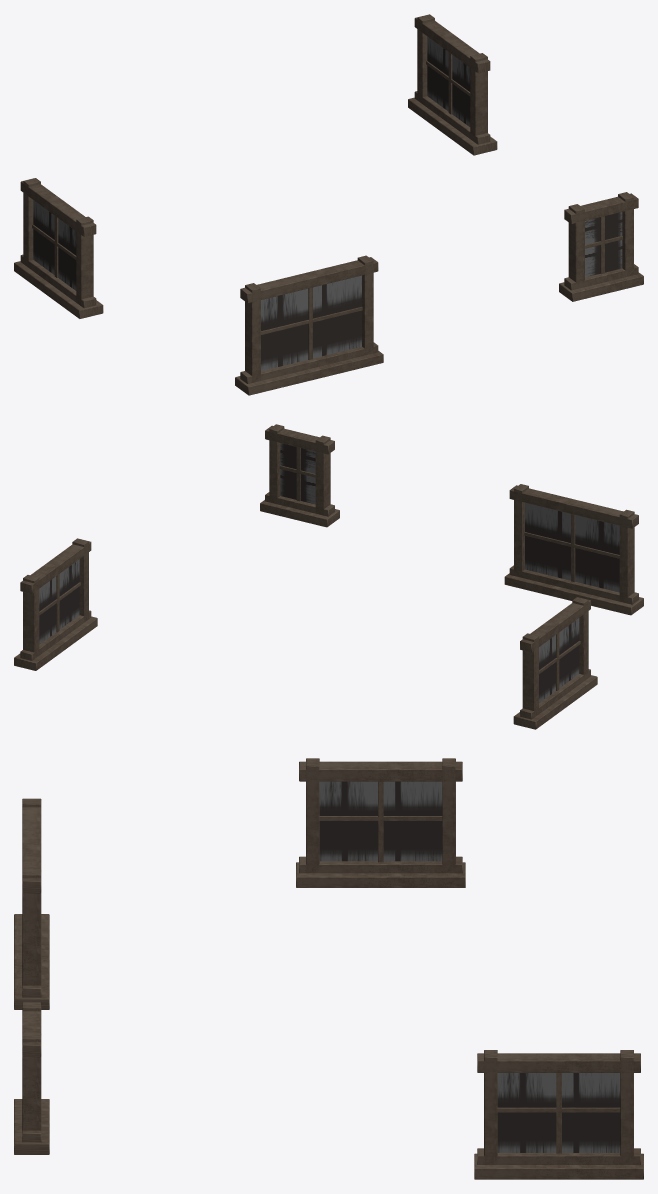
File: BW_Bakery01_Windows.fbx
3 views of the same model, one above another, from view 1: azimuth 30°, elevation 25°; view 2: azimuth 150°, elevation 25°; view 3: azimuth 270°, elevation 25° (orthographic). The views are drawn at different scales.
Parts seen in each view (by area): view 1: BW_Bakery01_Windows; view 2: BW_Bakery01_Windows; view 3: BW_Bakery01_Windows.
Part boxes in pixels (x1,y1,x2,y2): BW_Bakery01_Windows: (14,14,643,395); BW_Bakery01_Windows: (14,424,643,729); BW_Bakery01_Windows: (14,758,643,1179).
Size of the model in its own units: 6.92 by 1.4 by 6.01.
